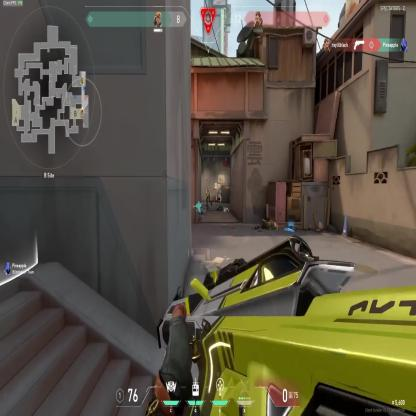enemy: (205, 185, 212, 209)
enemy_head: (207, 186, 208, 188)
